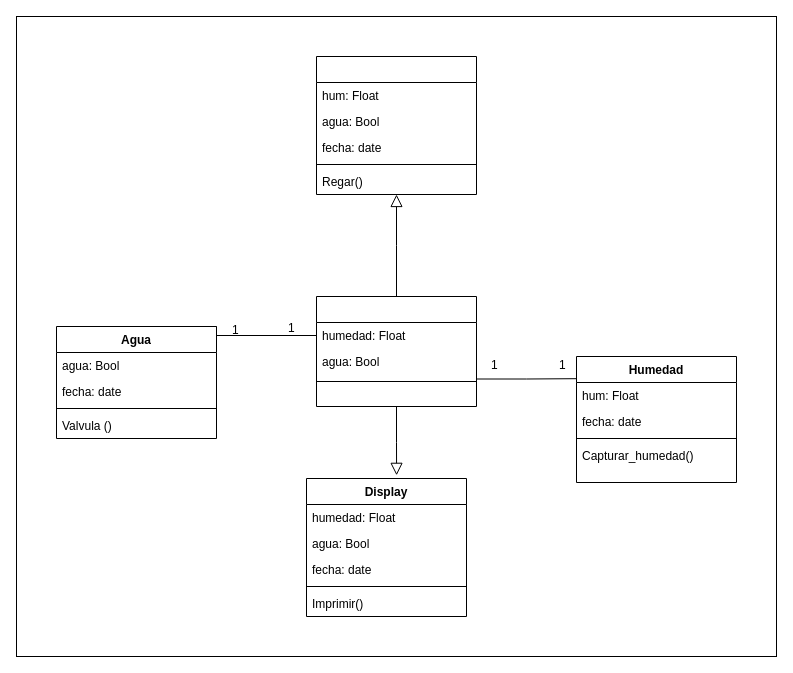
The diagram is 793 pixels wide and 673 high, and some of its shapes have lost their labels. Each missing label, with the box of its shape:
Riego: (316, 56, 476, 194)
Sensor: (316, 296, 476, 406)
